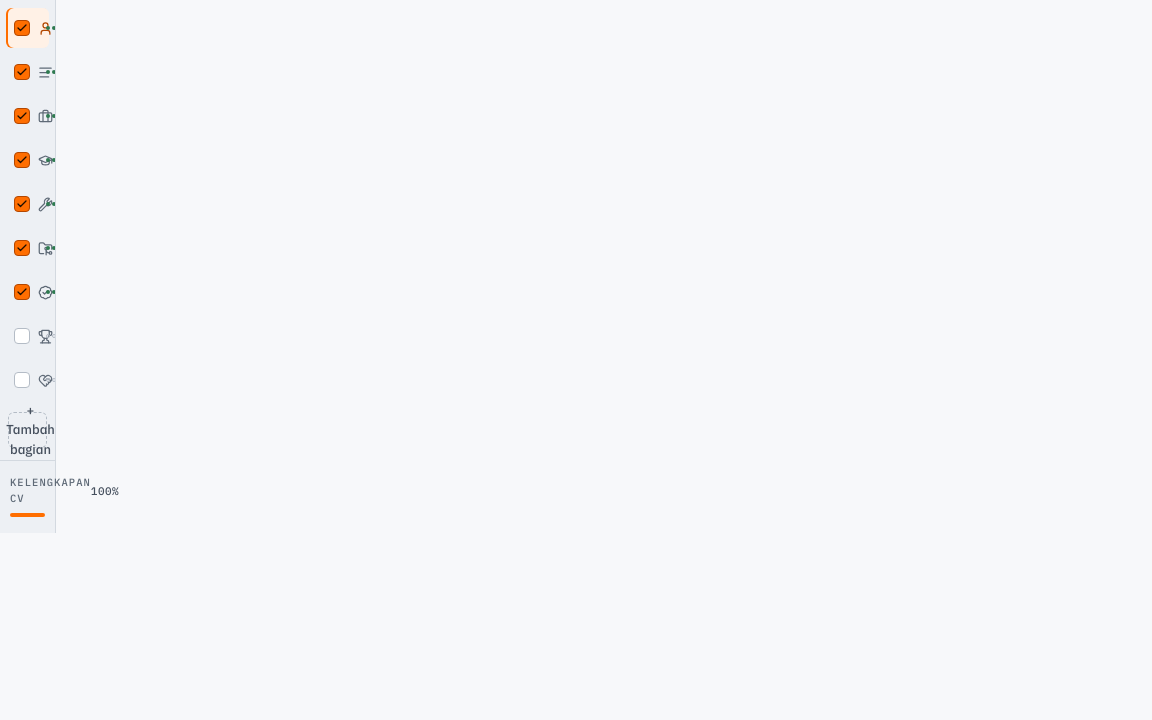
Test: Rail — katalog bagian baru › `+ Tambah bagian` membuka dialog dan `Tambah` memanggil addSection(kind)
The image size is (1152, 720).
What coordinates should you click on to do the following:
click the button "+ Tambah bagian"
I would click on:
 (28, 430)
Its box is [8,412,47,448].
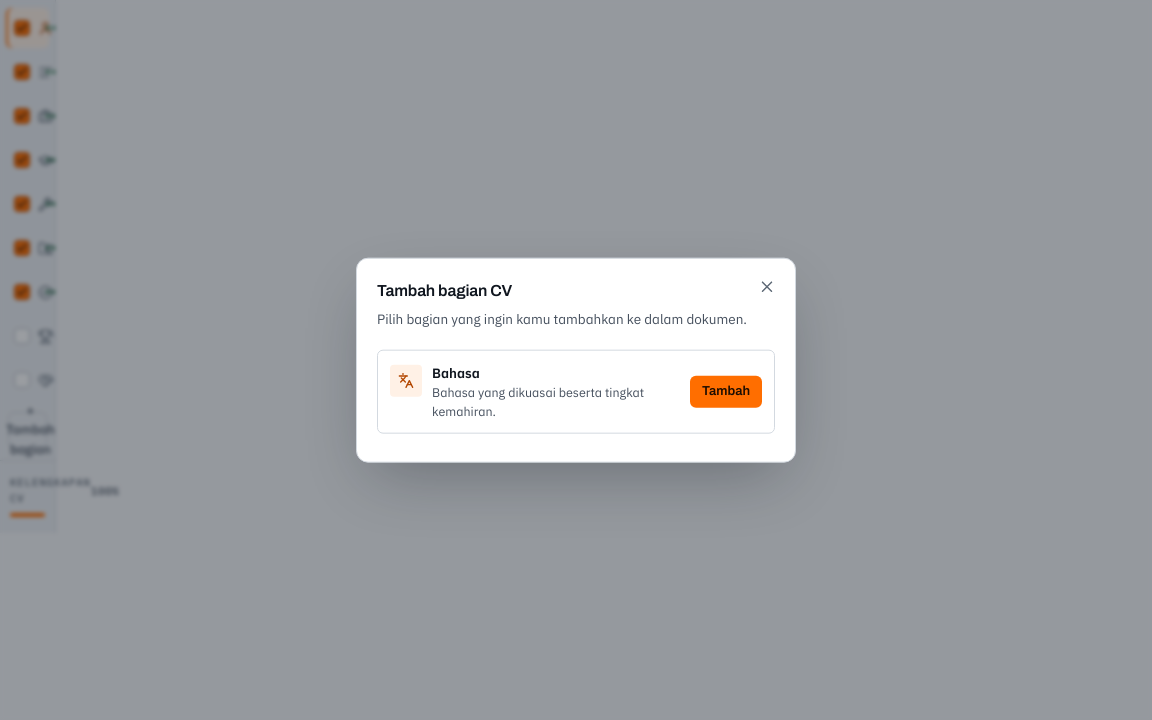
Result: the heading "Tambah bagian CV" is shown at [377,282,512,299]
Result: the heading "Bahasa" is shown at [432,364,480,382]
What coordinates should you click on to do the following:
click the button "Tambah"
I would click on:
 (726, 392)
Its box is [690,376,762,408].
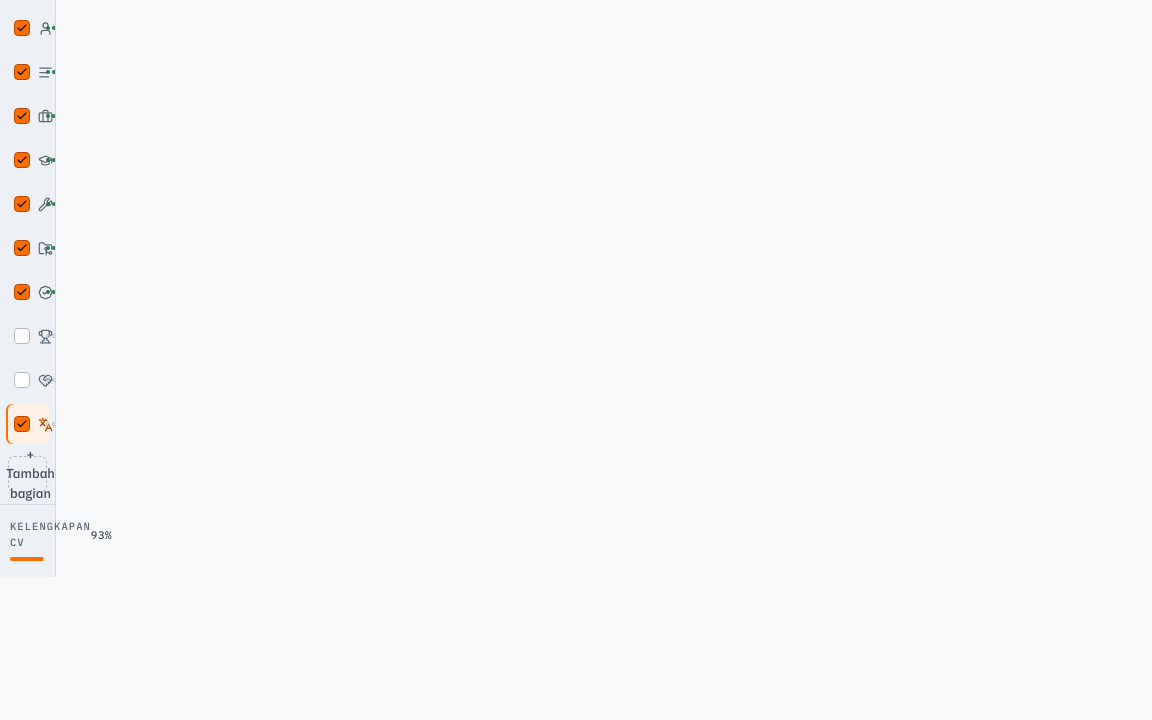
Result: the dialog is gone
